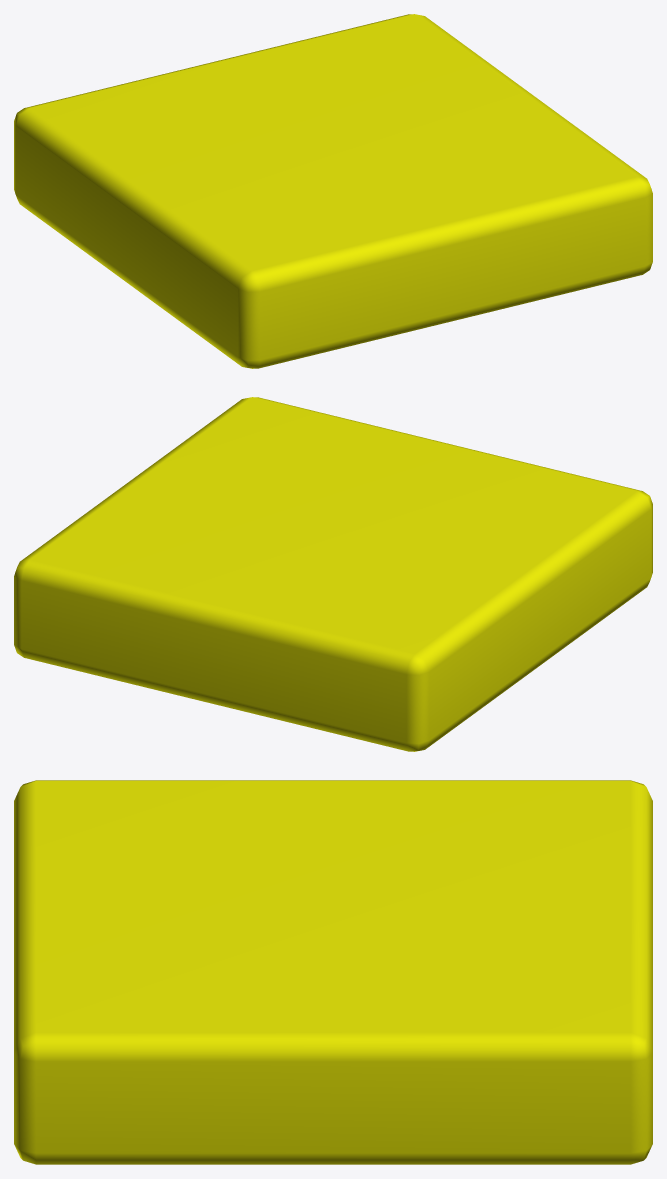
Rendered from MEC0110008.fbx.
3 views of the same model, one above another, from view 1: azimuth 30°, elevation 25°; view 2: azimuth 150°, elevation 25°; view 3: azimuth 270°, elevation 25° (orthographic). The views are drawn at different scales.
Visible parts, largest first — view 1: smMEC0110008; view 2: smMEC0110008; view 3: smMEC0110008.
Boxes of the visible parts, <box> form: smMEC0110008: <box>14,14,652,368</box>; smMEC0110008: <box>14,397,652,751</box>; smMEC0110008: <box>14,780,652,1164</box>.
Size of the model in its own units: 248 by 56.28 by 248.
